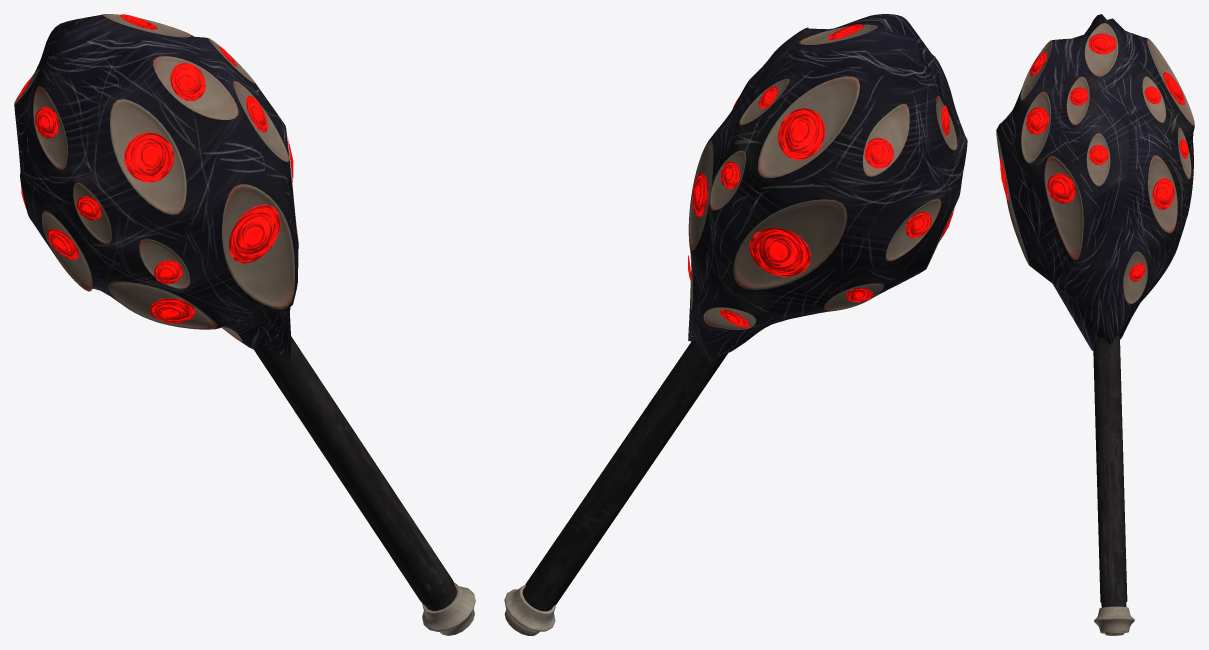
File: Red_Eyes_Export.fbx
3 renders of one model, left to right at view 1: azimuth 30°, elevation 25°; view 2: azimuth 150°, elevation 25°; view 3: azimuth 270°, elevation 25°, orthographic. The views are drawn at different scales.
Parts seen in each view (by area): view 1: Red_Eyes_textured_Red_Eyes_Mallet; view 2: Red_Eyes_textured_Red_Eyes_Mallet; view 3: Red_Eyes_textured_Red_Eyes_Mallet.
Part boxes in pixels (x1=…): Red_Eyes_textured_Red_Eyes_Mallet: x1=14, y1=14, x2=475, y2=635; Red_Eyes_textured_Red_Eyes_Mallet: x1=504, y1=14, x2=967, y2=635; Red_Eyes_textured_Red_Eyes_Mallet: x1=996, y1=14, x2=1194, y2=635.
Bounding box in the file's own units: 1.9 × 2.86 × 1.04.
